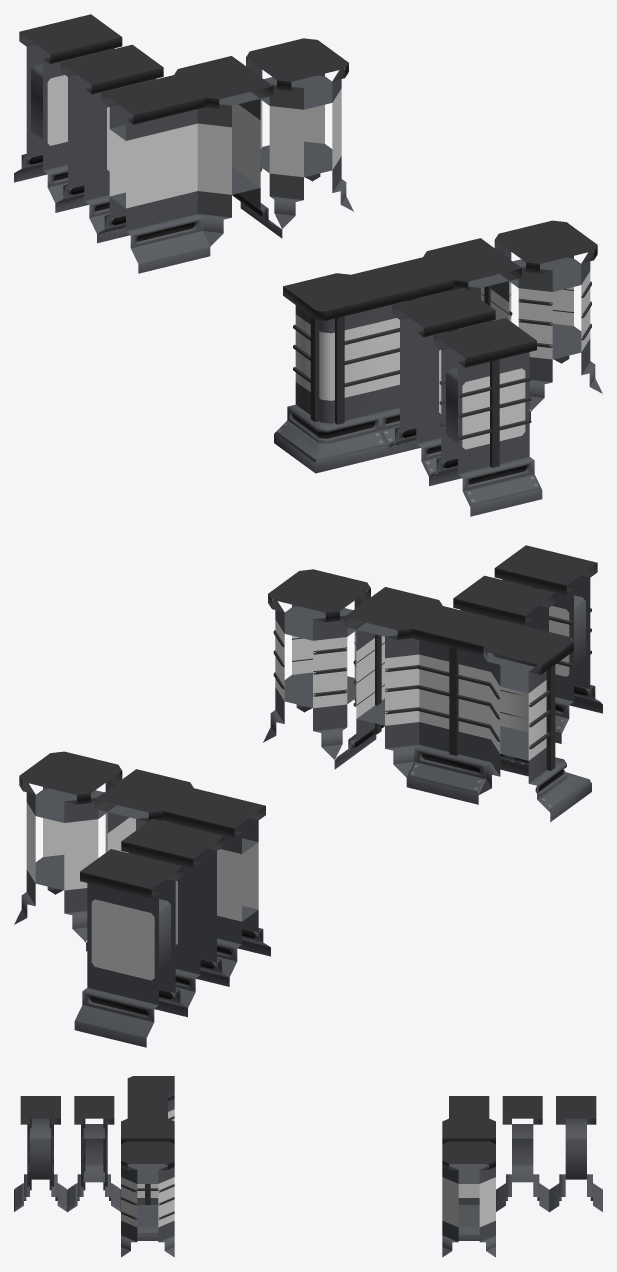
The model's file is glass walls.fbx.
3 renders of one model, top to bottom at view 1: azimuth 30°, elevation 25°; view 2: azimuth 150°, elevation 25°; view 3: azimuth 270°, elevation 25°, orthographic. The views are drawn at different scales.
Visible parts, largest first — view 1: Reinforced Glass Wall I Solo, Reinforced Glass Wall L, Glass Wall I, Glass Wall X, Reinforced Glass Wall X, Glass Wall T, Glass Wall I Solo, Glass Wall I End, Reinforced Glass Wall I End, Reinforced Glass Wall I, Reinforced Glass Wall T; view 2: Glass Wall I Solo, Reinforced Glass Wall I, Reinforced Glass Wall X, Reinforced Glass Wall L, Reinforced Glass Wall T, Glass Wall X, Glass Wall I End, Glass Wall I, Reinforced Glass Wall I Solo, Glass Wall T, Reinforced Glass Wall I End; view 3: Glass Wall X, Reinforced Glass Wall X, Reinforced Glass Wall I Solo, Reinforced Glass Wall I End, Glass Wall I Solo, Glass Wall I End, Glass Wall T, Reinforced Glass Wall T, Reinforced Glass Wall L, Glass Wall I, Reinforced Glass Wall I.
Boxes of the visible parts, x1=… form: Reinforced Glass Wall I Solo: x1=429, y1=318, x2=542, y2=516; Reinforced Glass Wall L: x1=274, y1=273, x2=387, y2=473; Glass Wall I: x1=97, y1=75, x2=210, y2=273; Glass Wall X: x1=246, y1=38, x2=353, y2=229; Reinforced Glass Wall X: x1=494, y1=220, x2=602, y2=411; Glass Wall T: x1=174, y1=56, x2=282, y2=246; Glass Wall I Solo: x1=14, y1=14, x2=122, y2=212; Glass Wall I End: x1=55, y1=44, x2=163, y2=242; Reinforced Glass Wall I End: x1=387, y1=287, x2=495, y2=486; Reinforced Glass Wall I: x1=351, y1=257, x2=453, y2=455; Reinforced Glass Wall T: x1=423, y1=238, x2=530, y2=419; Glass Wall I Solo: x1=74, y1=849, x2=187, y2=1047; Reinforced Glass Wall I: x1=406, y1=606, x2=519, y2=804; Reinforced Glass Wall X: x1=263, y1=569, x2=370, y2=760; Reinforced Glass Wall L: x1=479, y1=623, x2=591, y2=821; Reinforced Glass Wall T: x1=334, y1=587, x2=442, y2=777; Glass Wall X: x1=14, y1=751, x2=122, y2=942; Glass Wall I End: x1=121, y1=818, x2=229, y2=1016; Glass Wall I: x1=163, y1=788, x2=270, y2=985; Reinforced Glass Wall I Solo: x1=494, y1=545, x2=602, y2=743; Glass Wall T: x1=86, y1=769, x2=193, y2=951; Reinforced Glass Wall I End: x1=453, y1=575, x2=561, y2=772; Glass Wall X: x1=442, y1=1141, x2=495, y2=1257; Reinforced Glass Wall X: x1=121, y1=1141, x2=174, y2=1257; Reinforced Glass Wall I Solo: x1=14, y1=1096, x2=67, y2=1212; Reinforced Glass Wall I End: x1=67, y1=1096, x2=120, y2=1211; Glass Wall I Solo: x1=549, y1=1096, x2=602, y2=1212; Glass Wall I End: x1=496, y1=1096, x2=549, y2=1211; Glass Wall T: x1=442, y1=1118, x2=495, y2=1240; Reinforced Glass Wall T: x1=121, y1=1118, x2=174, y2=1240; Reinforced Glass Wall L: x1=127, y1=1076, x2=174, y2=1121; Glass Wall I: x1=449, y1=1096, x2=489, y2=1118; Reinforced Glass Wall I: x1=127, y1=1096, x2=167, y2=1118.
Bounding box in the file's own units: 400 × 206 × 1100.
